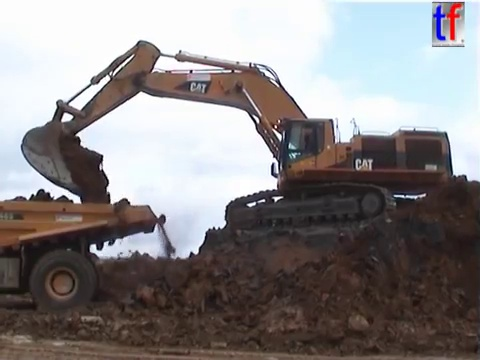excavator: (17, 36, 461, 238)
truck: (1, 196, 163, 319)
